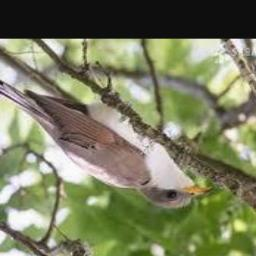Cuckoo: (0, 55, 216, 207)
